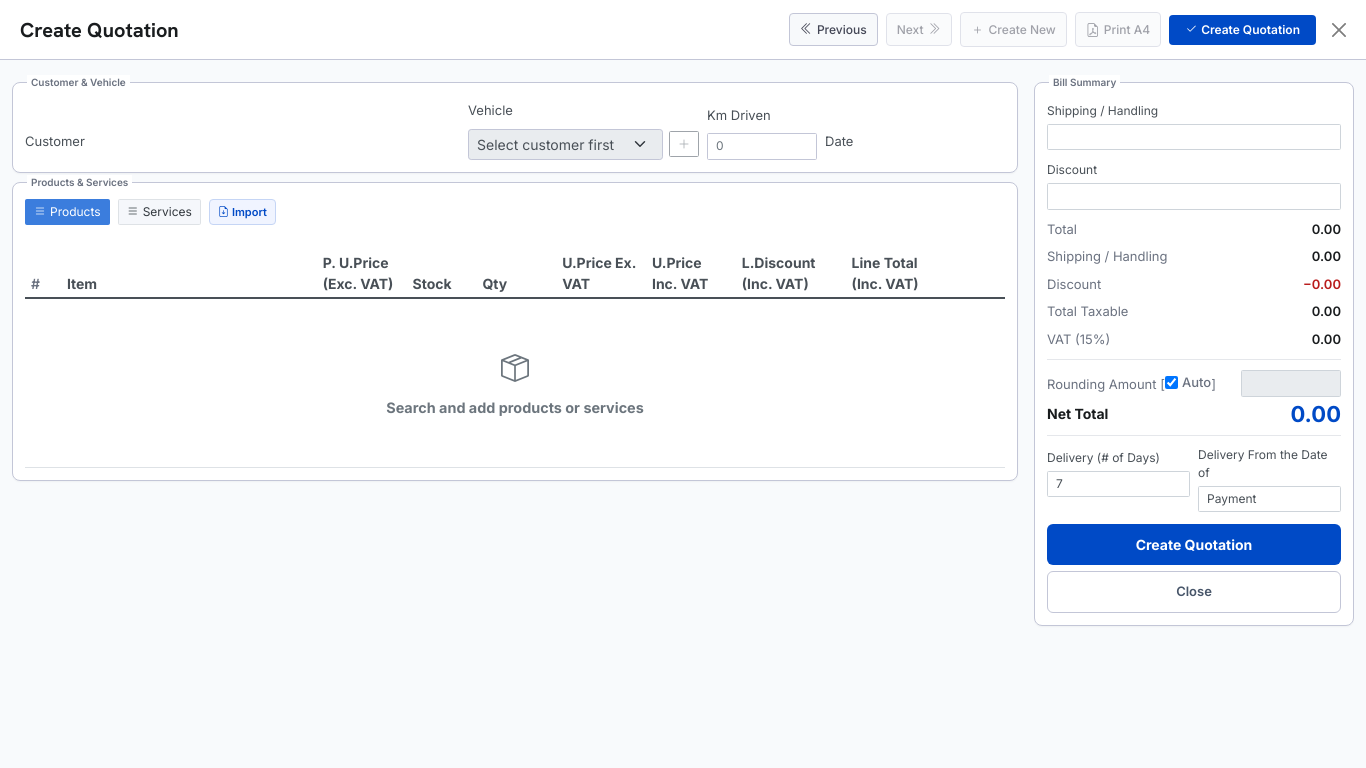
Quotation form type 3: Import dropdown (integration) › From Purchases prices lines at the store selling price
Later steps or results of the test are not shown.
Click the button with test id "import-dropdown-btn".
click(242, 212)  # box [209,198,276,225]
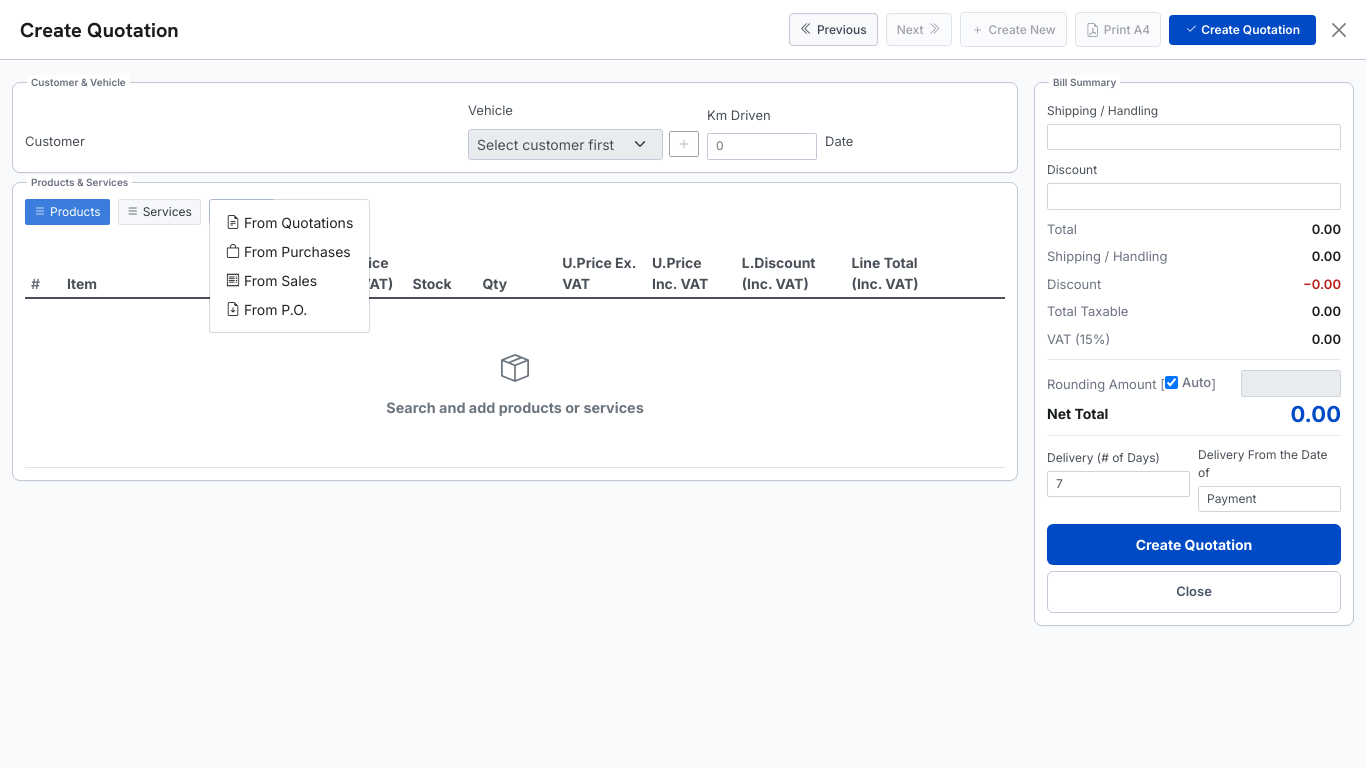
Click the button with test id "import-from-purchase-btn".
click(288, 251)  # box [226,242,351,260]
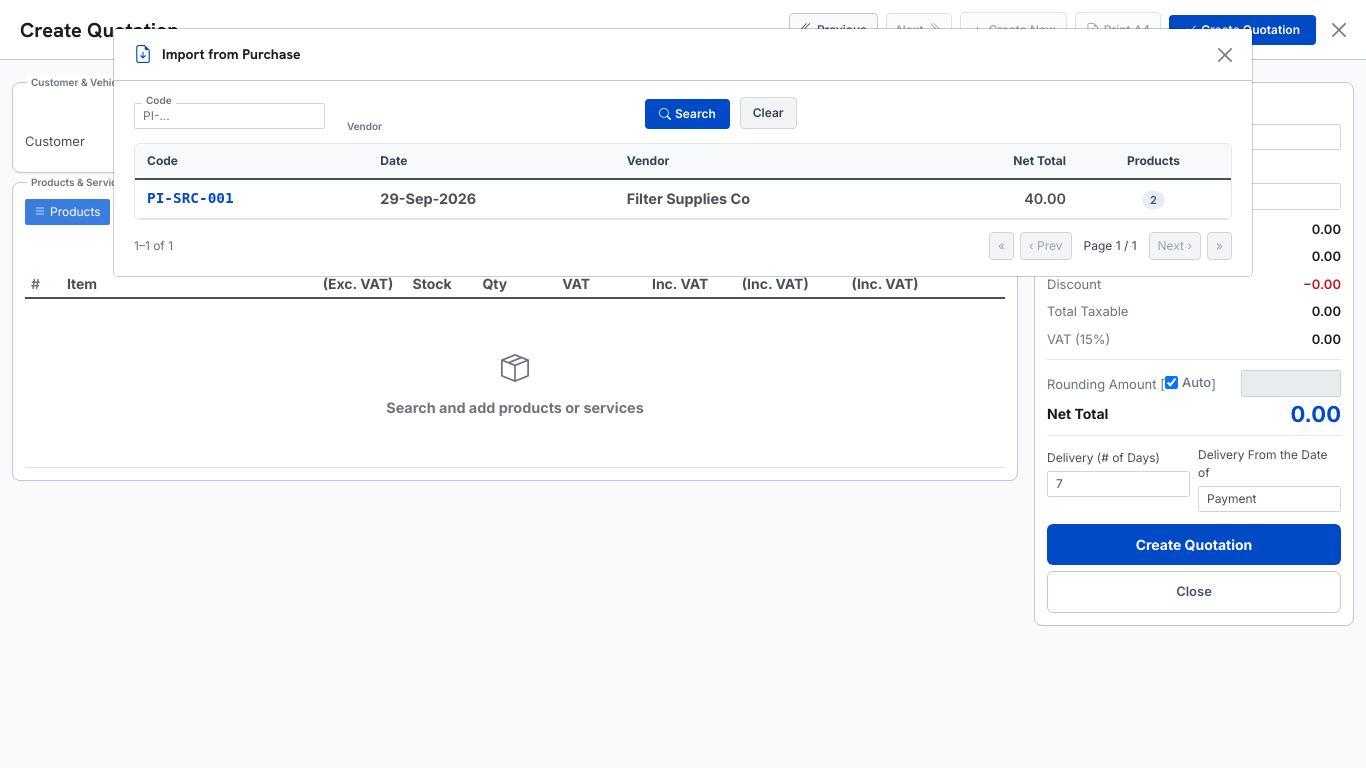
Click the text "PI-SRC-001".
click(253, 199)  # box [135,179,370,218]
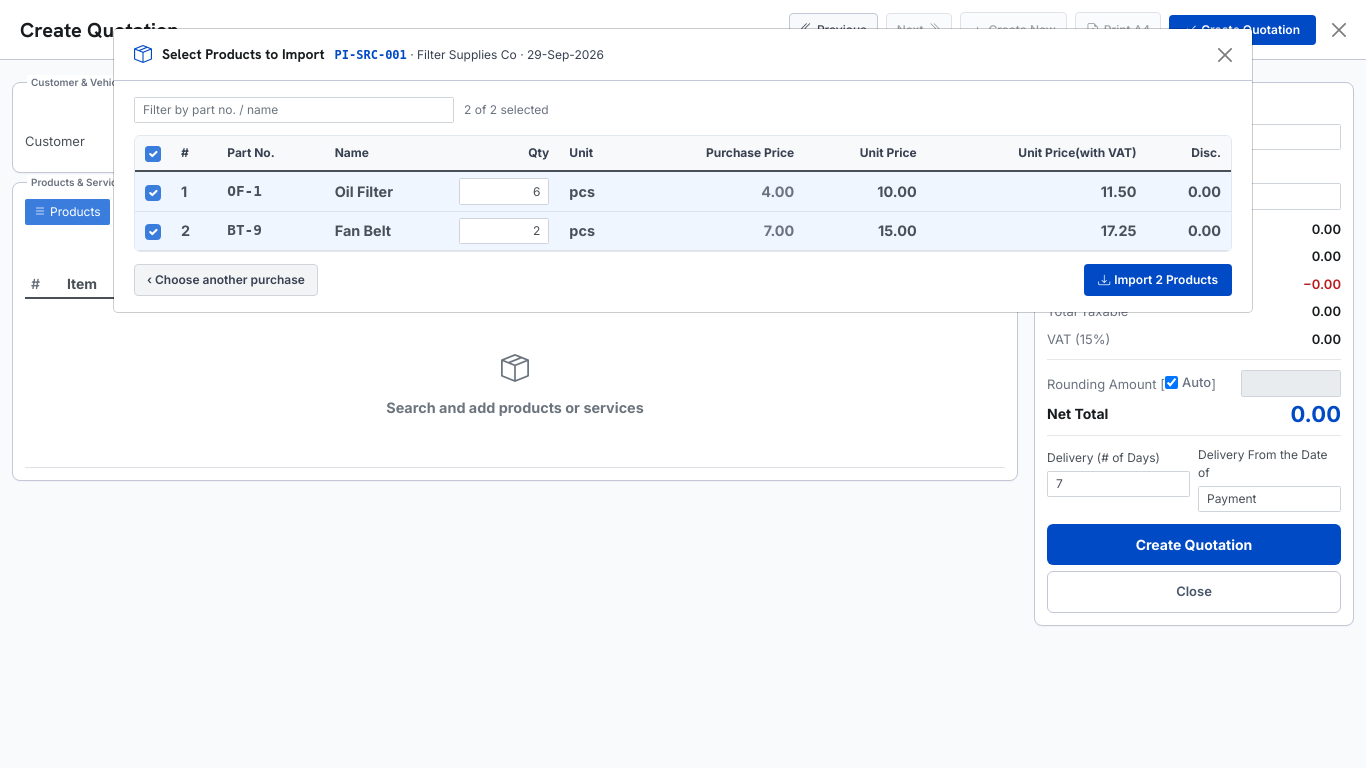
Expected: the heading "Select Products to Import" is shown, [162,46,325,63]
Expected: the column heading "Purchase Price" is shown, [632,136,804,171]
